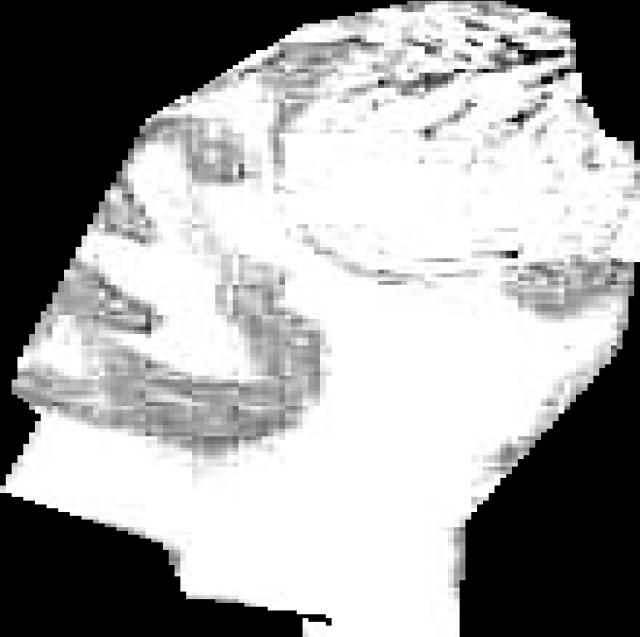tumor_less_chance: (0, 1, 640, 637)
